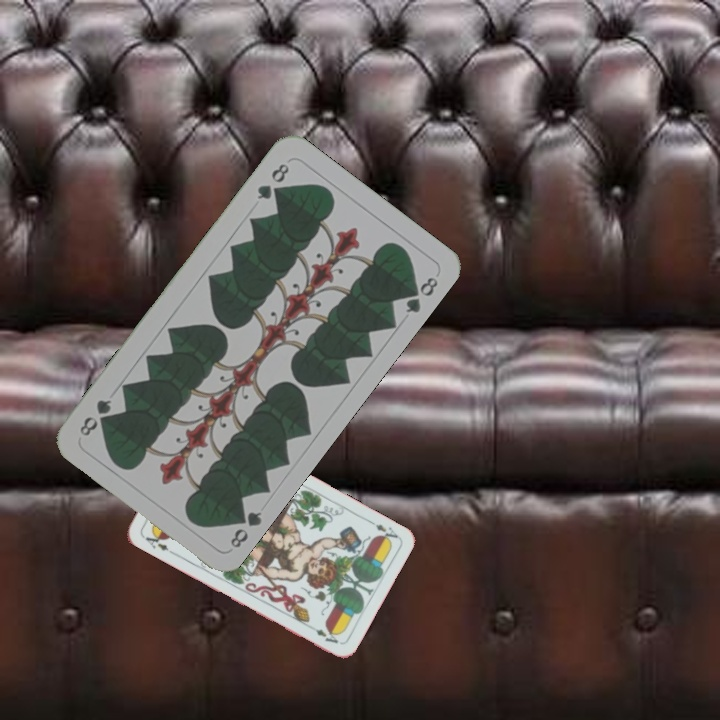EA: (139, 528, 176, 557), (364, 516, 400, 545)
G8: (226, 505, 265, 551), (252, 159, 292, 203)
